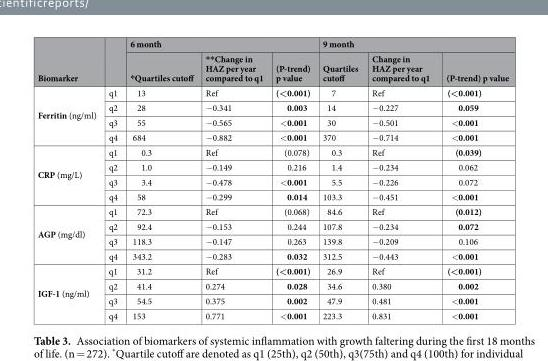table: (36, 37, 508, 321)
table column: (123, 37, 198, 321), (364, 37, 437, 321), (437, 37, 508, 321), (198, 37, 268, 321), (36, 37, 101, 321), (315, 37, 364, 321), (268, 37, 315, 321), (101, 37, 123, 321)
table column header: (36, 37, 508, 85)
table row: (36, 50, 508, 85), (36, 99, 508, 114), (36, 114, 508, 129), (36, 129, 508, 144), (36, 144, 508, 159), (36, 173, 508, 188), (36, 188, 508, 203), (36, 203, 508, 218), (36, 218, 508, 233), (36, 233, 508, 248), (36, 248, 508, 263), (36, 263, 508, 278), (36, 292, 508, 307), (36, 85, 508, 99), (36, 159, 508, 173), (36, 278, 508, 292), (36, 307, 508, 321), (36, 37, 508, 50)
table spanning cell: (36, 203, 101, 263), (36, 85, 101, 144), (36, 144, 101, 203), (36, 263, 101, 321), (36, 37, 101, 85), (315, 37, 508, 50), (123, 37, 315, 50)
